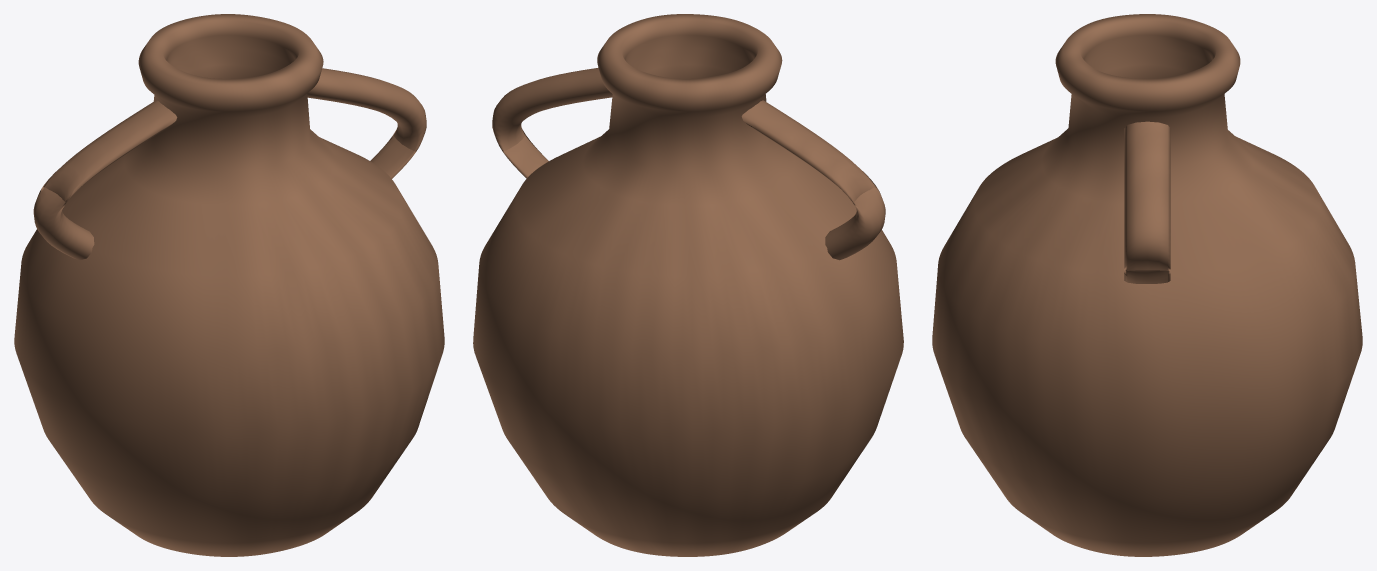
File: clay-vessel.glb
The picture shows the model from 3 angles, left to right: view 1: azimuth 30°, elevation 25°; view 2: azimuth 150°, elevation 25°; view 3: azimuth 270°, elevation 25°; orthographic projection.
Parts seen in each view (by area): view 1: wheel-thrown-jar, strap-handle-1, strap-handle1; view 2: wheel-thrown-jar, strap-handle-1, strap-handle1; view 3: wheel-thrown-jar, strap-handle1.
Boxes of the visible parts, bbox=[...] form: wheel-thrown-jar: bbox=[14, 14, 444, 556]; strap-handle-1: bbox=[33, 100, 177, 260]; strap-handle1: bbox=[307, 68, 426, 178]; wheel-thrown-jar: bbox=[473, 14, 903, 556]; strap-handle-1: bbox=[741, 100, 885, 260]; strap-handle1: bbox=[492, 67, 612, 178]; wheel-thrown-jar: bbox=[932, 14, 1362, 556]; strap-handle1: bbox=[1124, 121, 1170, 283].
Bounding box in the file's own units: 0.4765 × 0.548 × 0.465.
